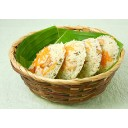idly: (30, 42, 64, 75), (83, 37, 101, 76), (66, 40, 85, 76), (98, 35, 118, 67)
